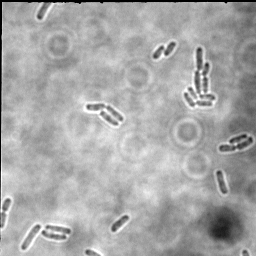Dividing: (85, 102, 124, 123), (218, 137, 254, 154), (1, 198, 13, 229)
Microcolony: (182, 47, 216, 108)
Rod: (20, 224, 42, 251), (110, 214, 131, 234), (98, 111, 120, 127), (215, 170, 229, 195), (40, 230, 68, 242), (45, 224, 72, 236), (228, 133, 248, 146), (151, 45, 165, 60), (164, 41, 177, 57)
